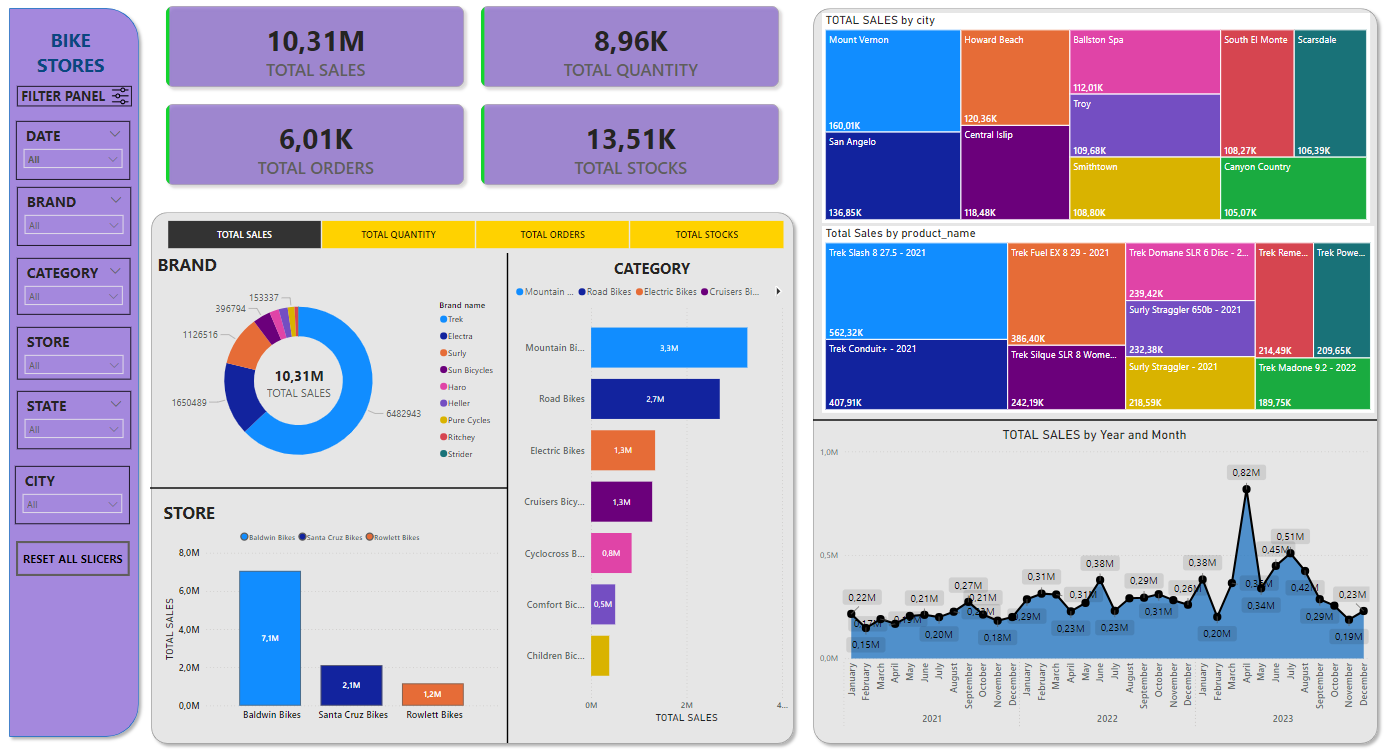

The dashboard page shown, as its layout file describes it:
{"tool":"powerbi","page":{"name":"Project","canvas":[2000,1100],"ordinal":1},"visuals":[{"type":"shape","box":[10,11.4,202.9,1058.6],"z":0},{"type":"textbox","box":[36.2,41.2,141.2,83.8],"z":1000},{"type":"cardVisual","fields":{"Data":["Bike_Stores order_items.Total Sales","Bike_Stores order_items.Total Quantity","Bike_Stores order_items.Total orders","Bike_Stores stocks.Total Stocks"]},"box":[225.7,0,911.4,290],"z":2000},{"type":"shape","box":[212.9,302.9,935.7,777.1],"z":3000},{"type":"donutChart","title":"BRAND ","fields":{"Y":["Bike_Stores order_items.Total Sales"],"Category":["Bike_Stores brands.brand_name"]},"box":[225.7,370,498.6,332.9],"z":4000},{"type":"cardVisual","fields":{"Data":["Bike_Stores order_items.Total Sales"]},"box":[357.1,501.4,151.4,107.1],"z":5000},{"type":"columnChart","title":"STORE","fields":{"Y":["Bike_Stores order_items.Total Sales"],"Category":["Bike_Stores stores.store_name"],"Series":["Bike_Stores stores.store_name"]},"box":[234.3,724.3,490,322.9],"z":6000},{"type":"shape","box":[220,674.3,511.4,62.9],"z":7000},{"type":"shape","box":[724.3,370,12.9,700],"z":8000},{"type":"barChart","title":"CATEGORY","fields":{"Y":["Bike_Stores order_items.Total Sales"],"Category":["Bike_Stores categories.category_name"],"Series":["Bike_Stores categories.category_name"]},"box":[737.1,377.1,400,670],"z":9000},{"type":"shape","box":[1158.6,11.4,824.3,1068.6],"z":10000},{"type":"shape","box":[1167.1,598.6,805.7,20],"z":11000},{"type":"slicer","fields":{"Values":["Bike_Stores brands.brand_name"]},"box":[29.6,275.9,162.6,83.7],"z":12000},{"type":"slicer","fields":{"Values":["Bike_Stores categories.category_name"]},"box":[29.5,377.5,161.7,81.5],"z":13000},{"type":"slicer","fields":{"Values":["Bike_Stores stores.store_name"]},"box":[29.5,475.5,162.9,75.1],"z":14000},{"type":"slicer","fields":{"Values":["Bike_Stores orders.order_date.Variation.Date Hierarchy.Year","Bike_Stores orders.order_date.Variation.Date Hierarchy.Month"]},"box":[28.3,181,162.6,83.7],"z":15000},{"type":"slicer","fields":{"Values":["Bike_Stores customers.state"]},"box":[30,567.5,162.5,82.5],"z":16000},{"type":"slicer","fields":{"Values":["Bike_Stores customers.city"]},"box":[27.5,673.8,163.8,82.5],"z":17000},{"type":"textbox","title":"FILTER PANEL","box":[30,131.4,164.3,28.6],"z":18000},{"type":"image","box":[148.6,128.6,57.1,34.3],"z":19000},{"type":"actionButton","box":[28.8,781.2,162.5,50],"z":20000},{"type":"slicer","fields":{"Values":["Metrics.Metrics"]},"box":[220,317.1,928.6,52.9],"z":21000},{"type":"treemap","fields":{"Values":["Bike_Stores order_items.Total Sales"],"Group":["Bike_Stores customers.city"]},"box":[1180,27.1,782.9,300],"z":22000},{"type":"treemap","fields":{"Group":["Bike_Stores products.product_name"],"Values":["Bike_Stores order_items.Total Sales"]},"box":[1180,331.4,788.6,267.1],"z":23000},{"type":"areaChart","fields":{"Y":["Bike_Stores order_items.Total Sales"],"Category":["Bike_Stores orders.order_date.Variation.Date Hierarchy.Year","Bike_Stores orders.order_date.Variation.Date Hierarchy.Month"]},"box":[1171.4,618.6,795.7,438.6],"z":24000}]}

Visuals, with their boxes in screenshot pixels (x1, y1, x2, y2), scaled from the page's 2000x1100 canvas onto the 1392x755 screenshot:
shape: pyautogui.locateOnScreen(7, 8, 148, 734)
textbox: pyautogui.locateOnScreen(25, 28, 123, 86)
cardVisual - Bike_Stores order_items.Total Sales x Bike_Stores order_items.Total Quantity: pyautogui.locateOnScreen(157, 0, 791, 199)
shape: pyautogui.locateOnScreen(148, 208, 799, 741)
"BRAND " donutChart: pyautogui.locateOnScreen(157, 254, 504, 482)
cardVisual - Bike_Stores order_items.Total Sales: pyautogui.locateOnScreen(249, 344, 354, 418)
"STORE" columnChart: pyautogui.locateOnScreen(163, 497, 504, 719)
shape: pyautogui.locateOnScreen(153, 463, 509, 506)
shape: pyautogui.locateOnScreen(504, 254, 513, 734)
"CATEGORY" barChart: pyautogui.locateOnScreen(513, 259, 791, 719)
shape: pyautogui.locateOnScreen(806, 8, 1380, 741)
shape: pyautogui.locateOnScreen(812, 411, 1373, 425)
slicer - Bike_Stores brands.brand_name: pyautogui.locateOnScreen(21, 189, 134, 247)
slicer - Bike_Stores categories.category_name: pyautogui.locateOnScreen(21, 259, 133, 315)
slicer - Bike_Stores stores.store_name: pyautogui.locateOnScreen(21, 326, 134, 378)
slicer - Bike_Stores orders.order_date.Variation.Date Hierarchy.Year x Bike_Stores orders.order_date.Variation.Date Hierarchy.Month: pyautogui.locateOnScreen(20, 124, 133, 182)
slicer - Bike_Stores customers.state: pyautogui.locateOnScreen(21, 390, 134, 446)
slicer - Bike_Stores customers.city: pyautogui.locateOnScreen(19, 462, 133, 519)
"FILTER PANEL" textbox: pyautogui.locateOnScreen(21, 90, 135, 110)
image: pyautogui.locateOnScreen(103, 88, 143, 112)
actionButton: pyautogui.locateOnScreen(20, 536, 133, 571)
slicer - Metrics.Metrics: pyautogui.locateOnScreen(153, 218, 799, 254)
treemap - Bike_Stores order_items.Total Sales x Bike_Stores customers.city: pyautogui.locateOnScreen(821, 19, 1366, 225)
treemap - Bike_Stores products.product_name x Bike_Stores order_items.Total Sales: pyautogui.locateOnScreen(821, 227, 1370, 411)
areaChart - Bike_Stores order_items.Total Sales x Bike_Stores orders.order_date.Variation.Date Hierarchy.Year: pyautogui.locateOnScreen(815, 425, 1369, 726)
